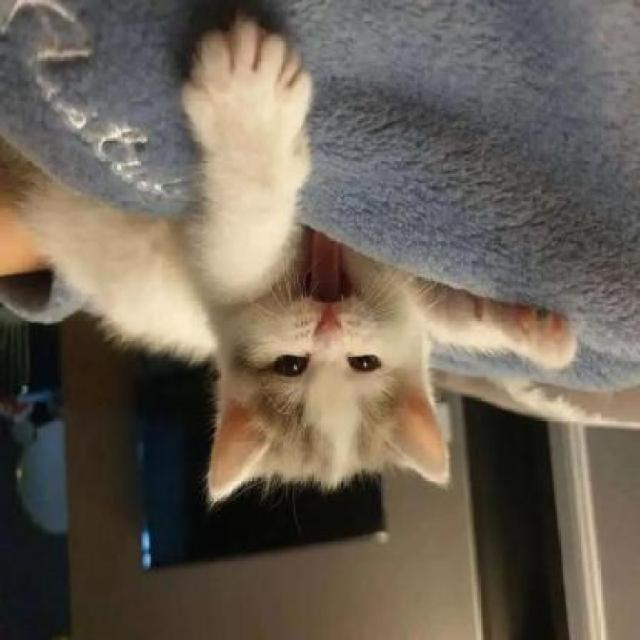cat: (0, 12, 582, 519)
